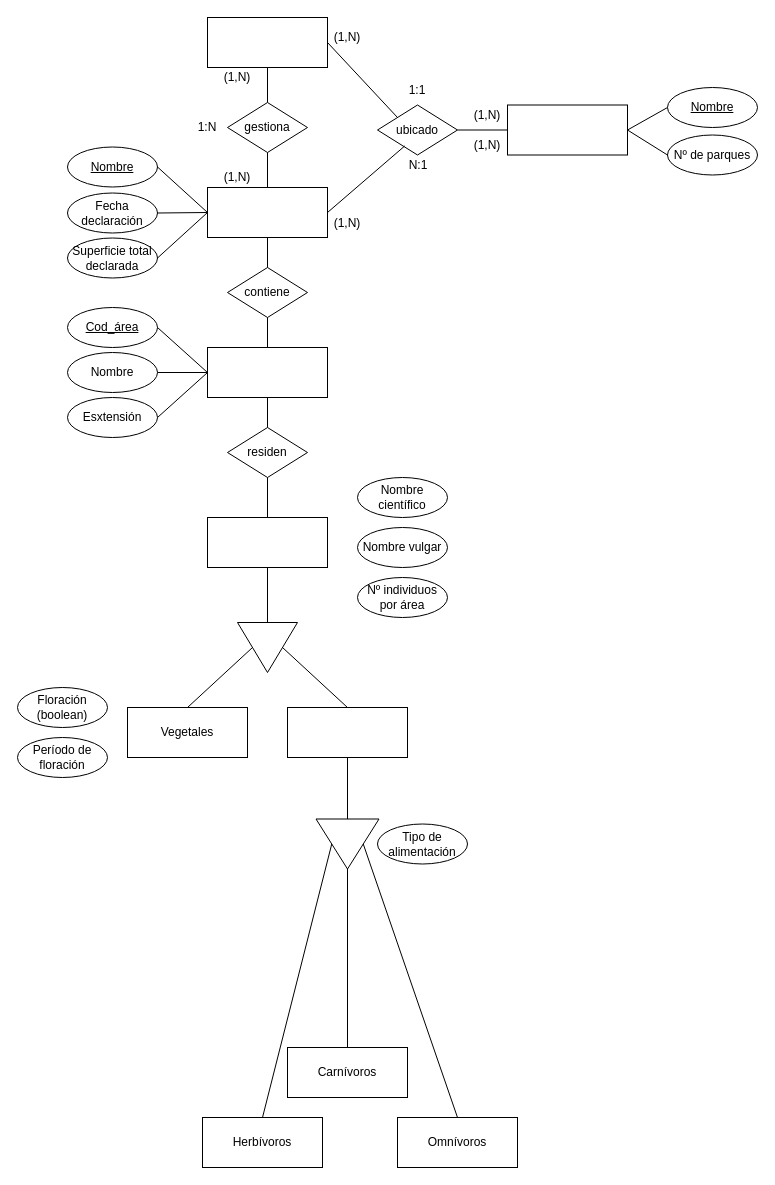
Image size: 775x1185. Some labels were removed from this diagram. Here are the shapes that lost their labels. From the top down, the centre of each, then its label:
(x=267, y=42): Organismo responsable de los parques
(x=567, y=129): C.A.
(x=267, y=212): Parque Natural
(x=267, y=372): Áreas
(x=267, y=542): Especies
(x=347, y=732): Animales
